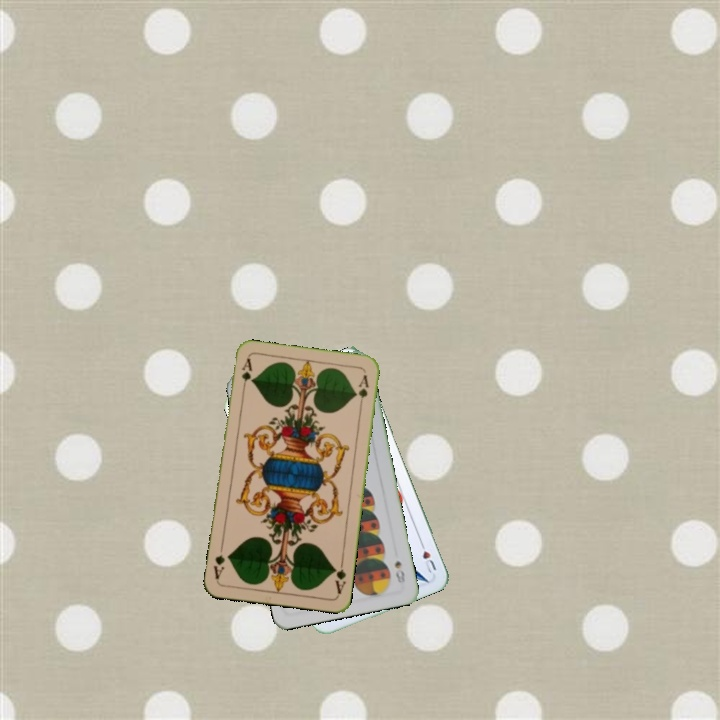GA: (330, 556, 349, 597), (237, 354, 254, 395)
HU: (416, 537, 439, 576)
S8: (391, 557, 407, 587)
